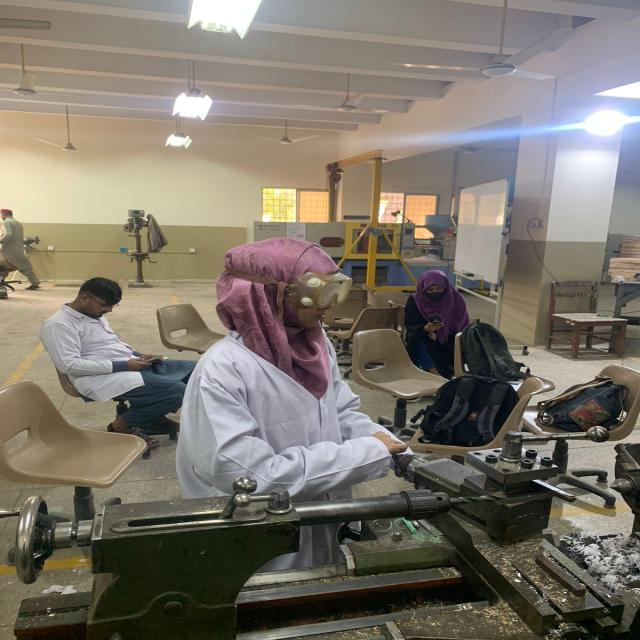googles: (296, 272, 351, 311)
labcoat: (172, 321, 415, 575), (39, 299, 164, 404)
